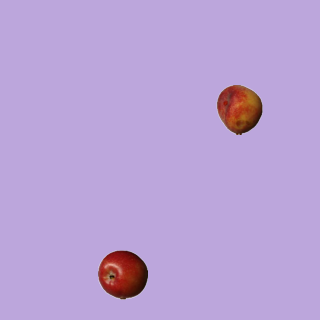Apple Braeburn: (97, 249, 147, 299)
Peach: (214, 84, 264, 134)
